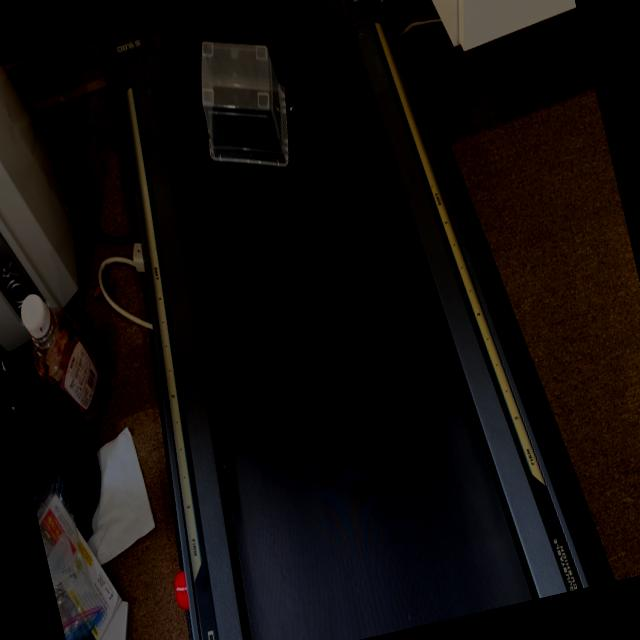Recycle: (185, 21, 300, 179)
